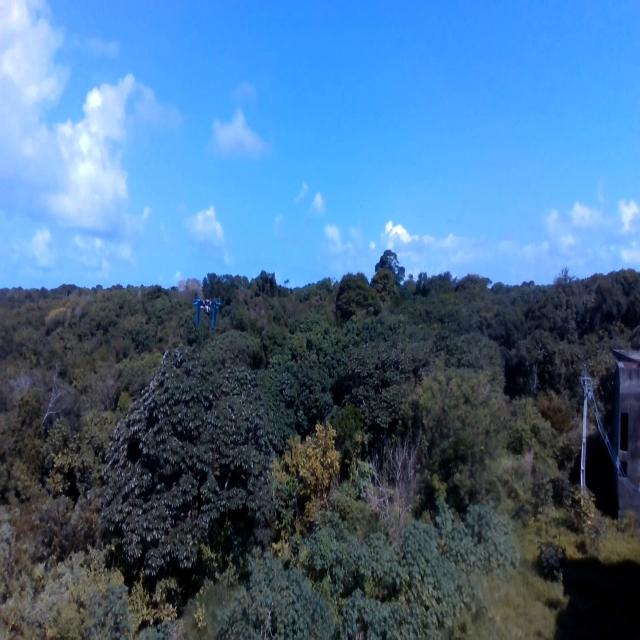-uav-: (192, 282, 222, 331)
